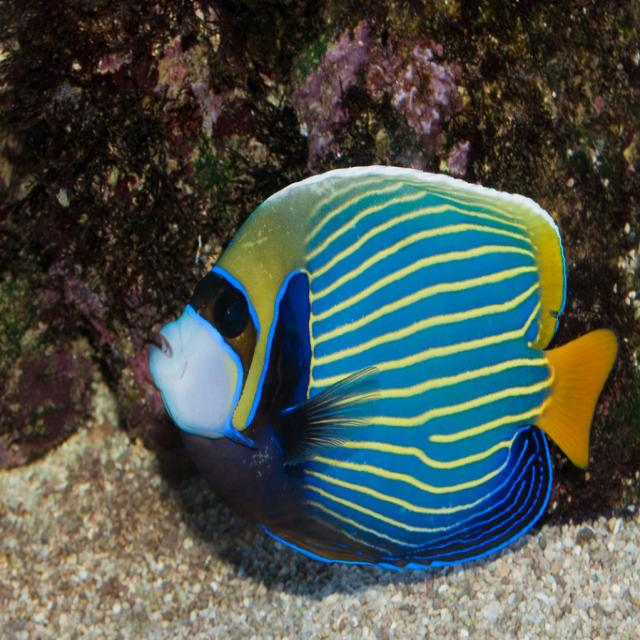AngelFish: (149, 168, 617, 576)
